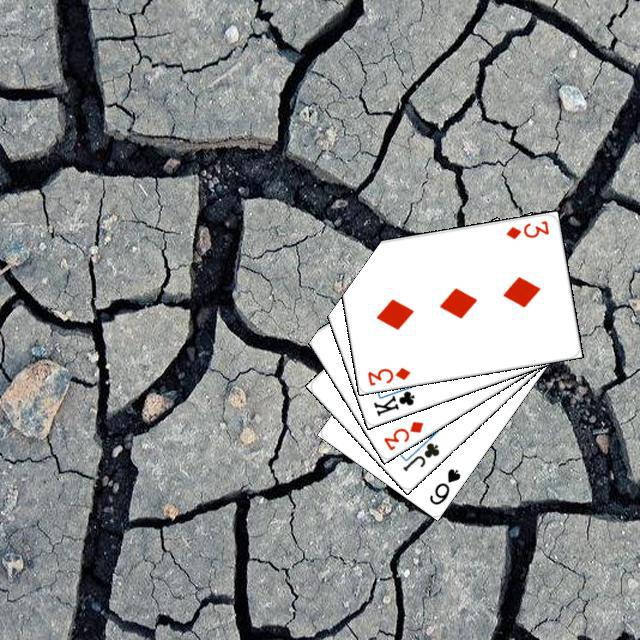3d: (378, 416, 425, 452), (362, 362, 412, 387), (501, 216, 550, 240)
6s: (424, 463, 462, 507)
Jc: (398, 437, 441, 473)
Kc: (368, 380, 417, 418)
